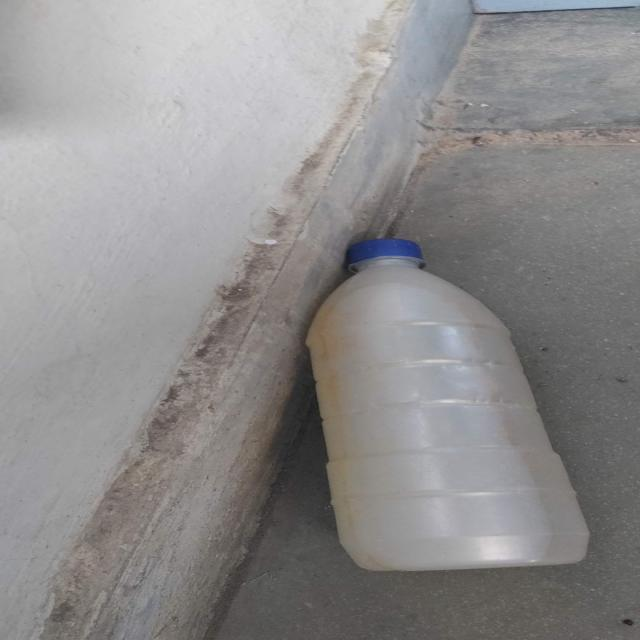chai_nhua: (307, 240, 589, 572)
